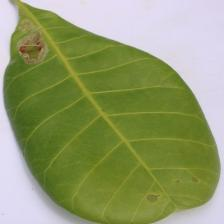leaf miner: (9, 10, 56, 72)
